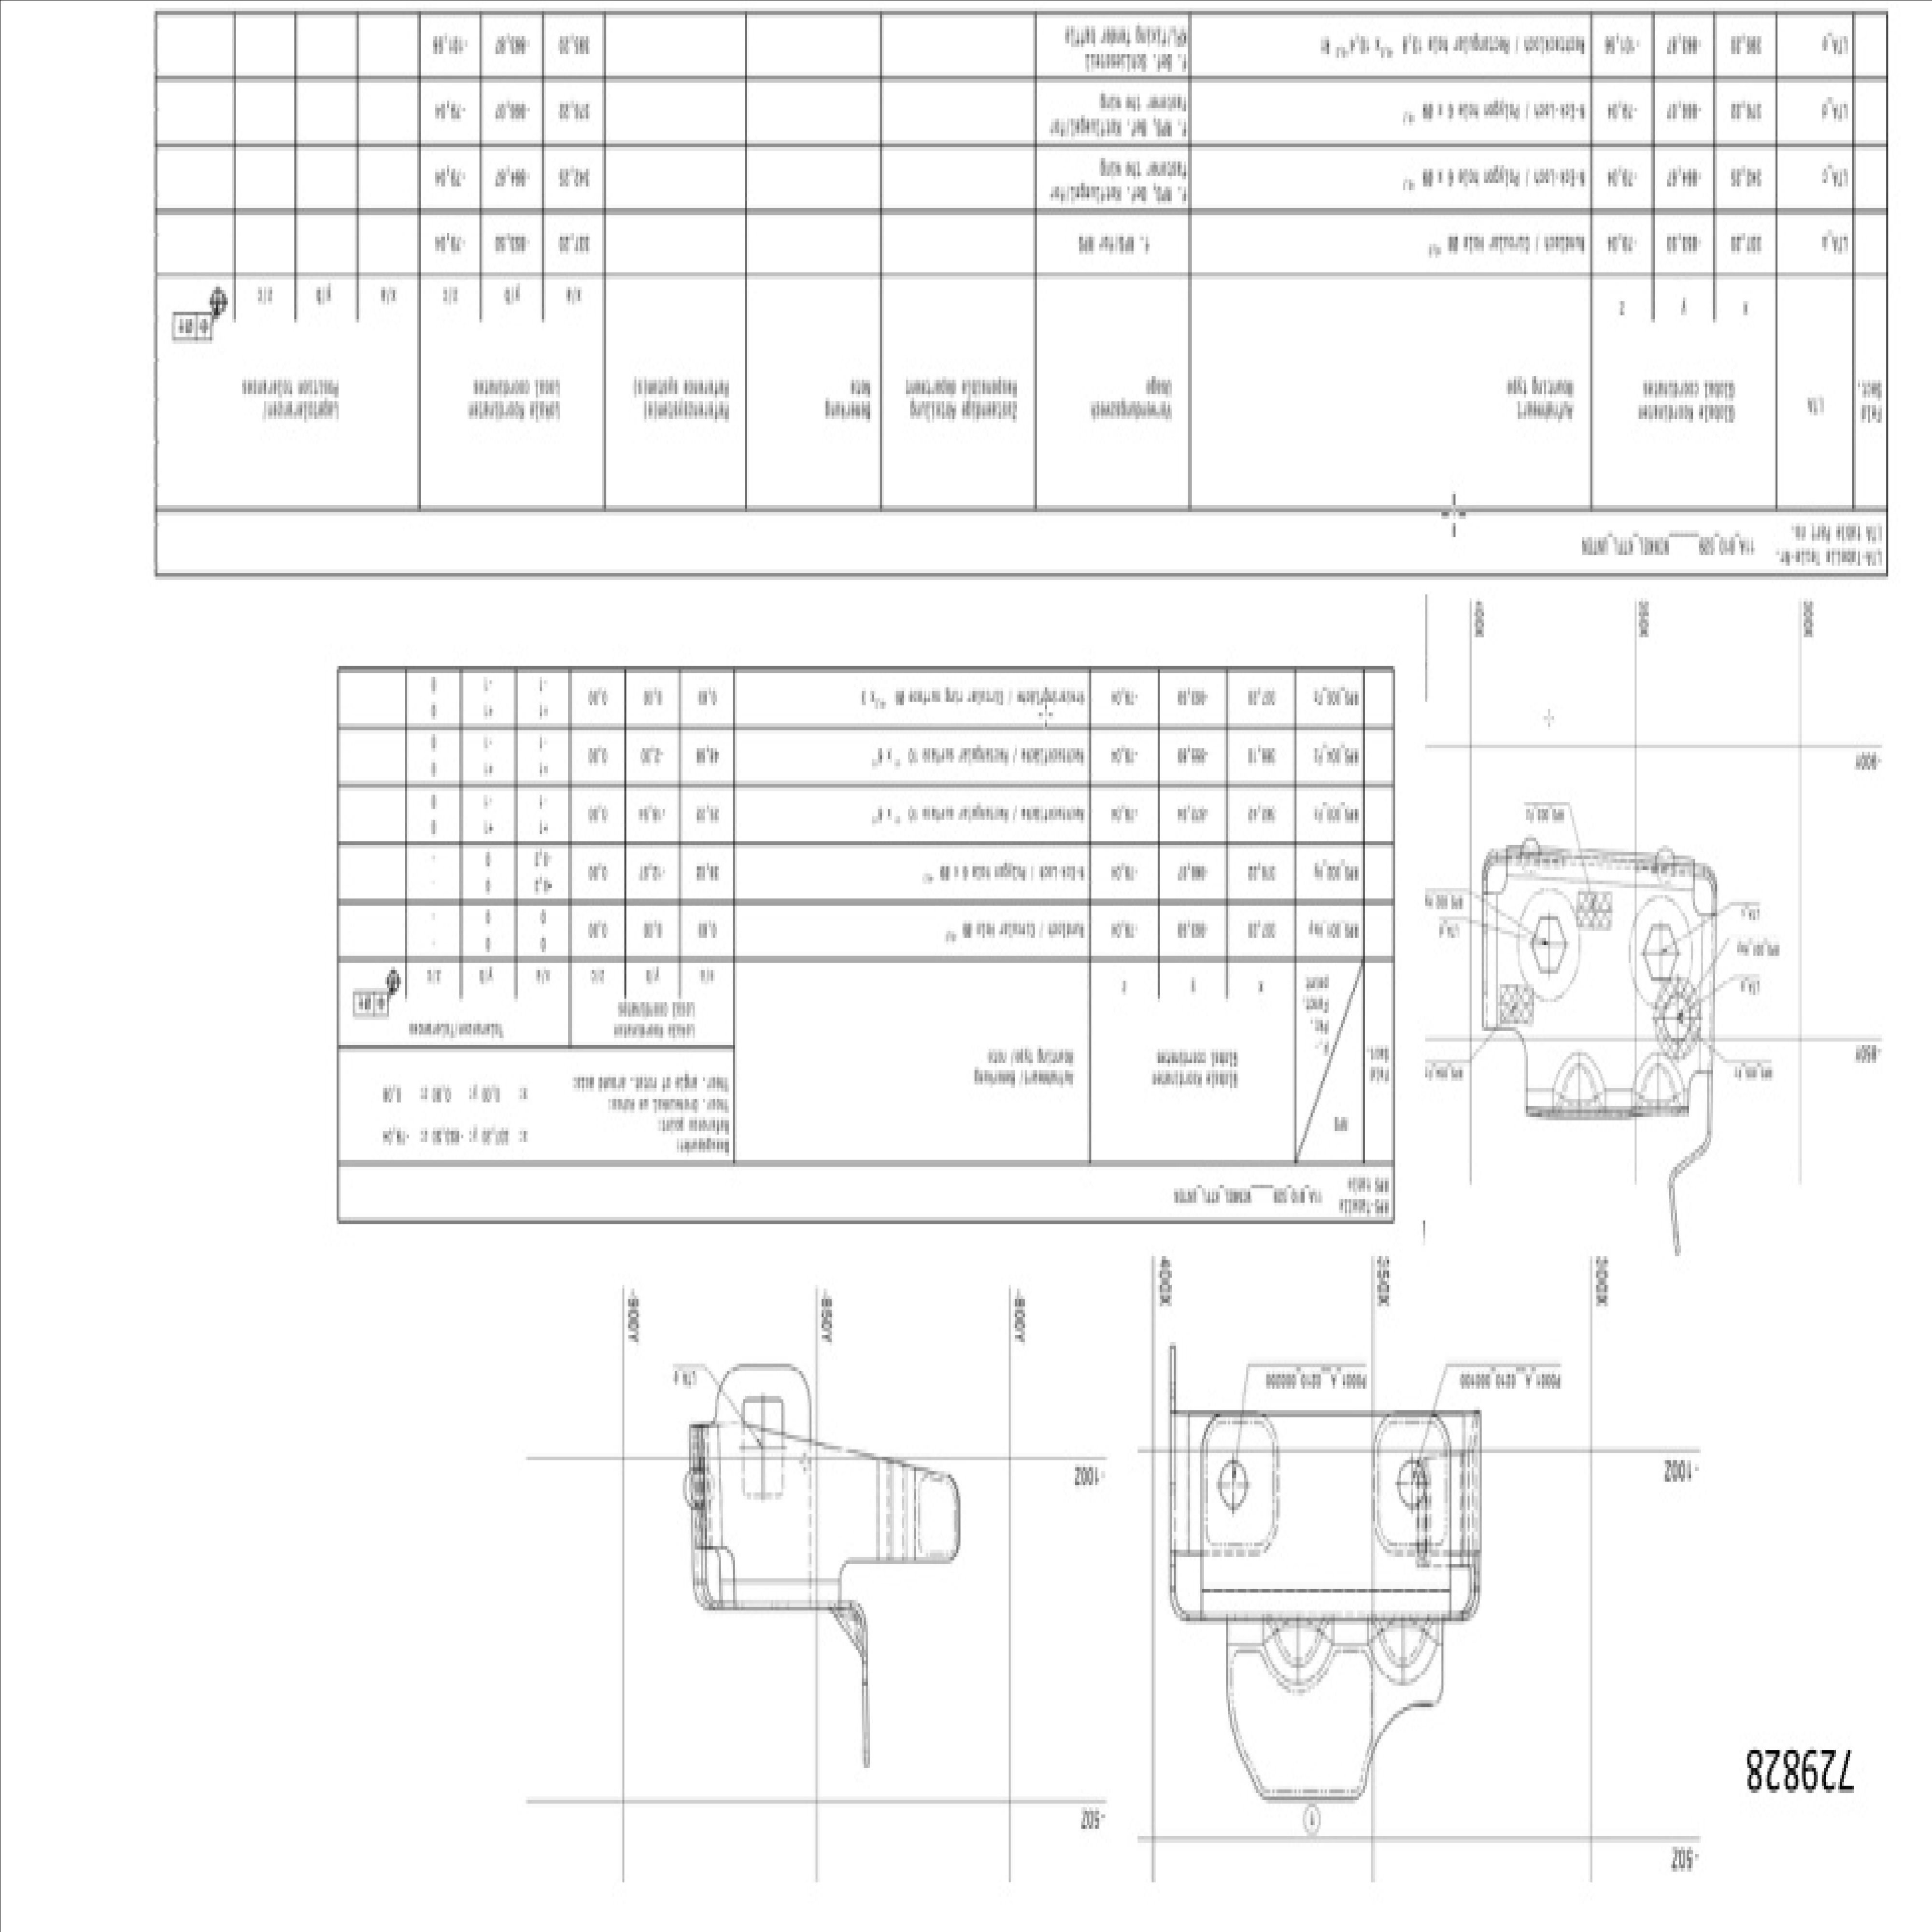InnerContour: (1394, 1456, 1433, 1511), (1215, 1461, 1251, 1513)
InnerContourAngular: (1529, 911, 1571, 977), (1642, 920, 1681, 985)
Reinforcement: (1260, 1617, 1336, 1697), (1364, 1615, 1440, 1690), (1552, 1049, 1606, 1109), (1631, 1051, 1686, 1108)
ThroughHole: (1647, 980, 1704, 1060)
